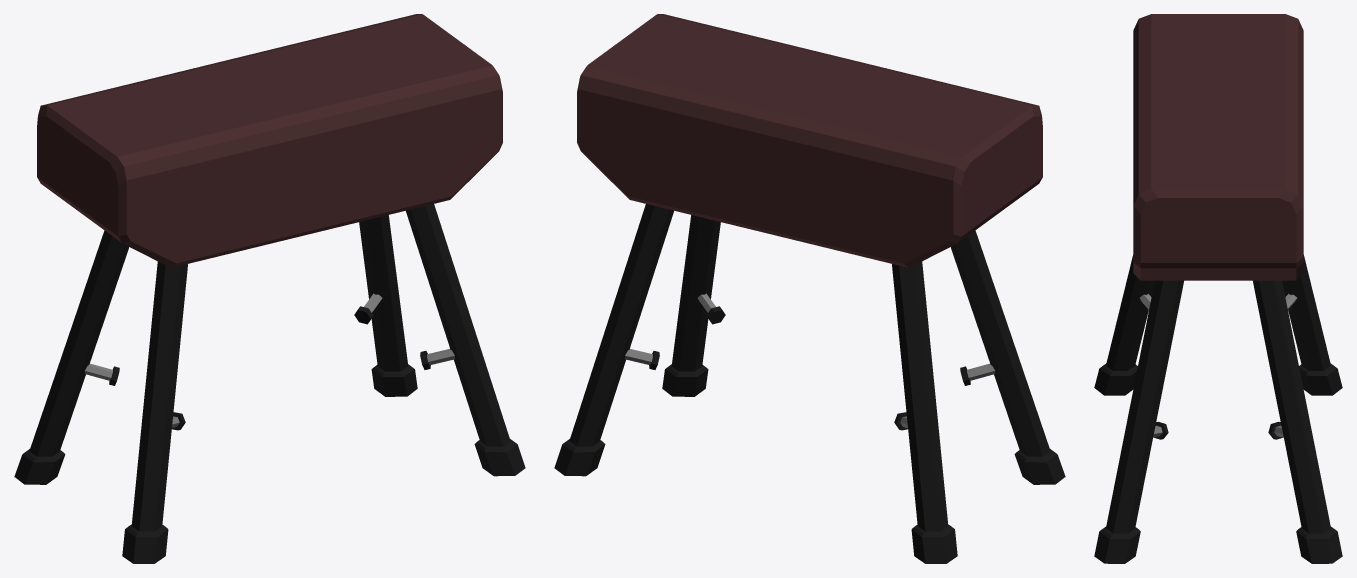
File: Int_GymVaultingHorse01.fbx
3 views of the same model, side by side, from view 1: azimuth 30°, elevation 25°; view 2: azimuth 150°, elevation 25°; view 3: azimuth 270°, elevation 25° (orthographic). The views are drawn at different scales.
Visible parts, largest first — view 1: Int_GymVaultingHorse01; view 2: Int_GymVaultingHorse01; view 3: Int_GymVaultingHorse01.
Part boxes in pixels (x1=…): Int_GymVaultingHorse01: x1=14, y1=14, x2=525, y2=563; Int_GymVaultingHorse01: x1=554, y1=14, x2=1065, y2=563; Int_GymVaultingHorse01: x1=1094, y1=14, x2=1342, y2=563.
Size of what is drawn, in the model's own units: 153 by 87.66 by 144.
